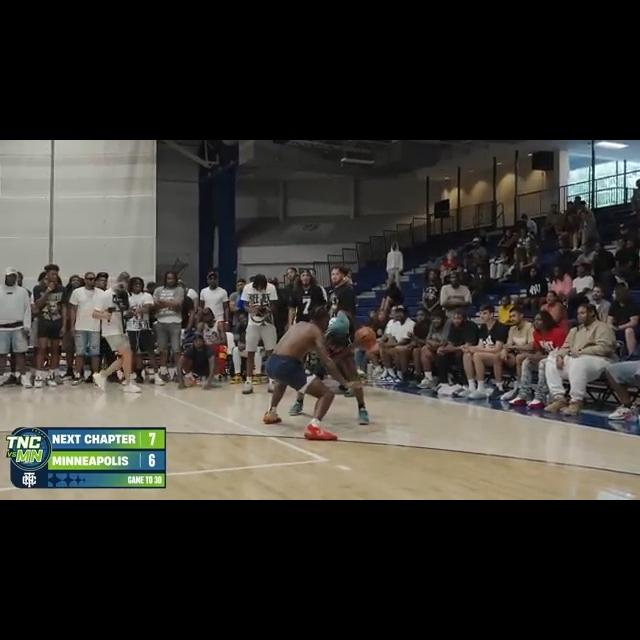basketball: (353, 327, 376, 350)
